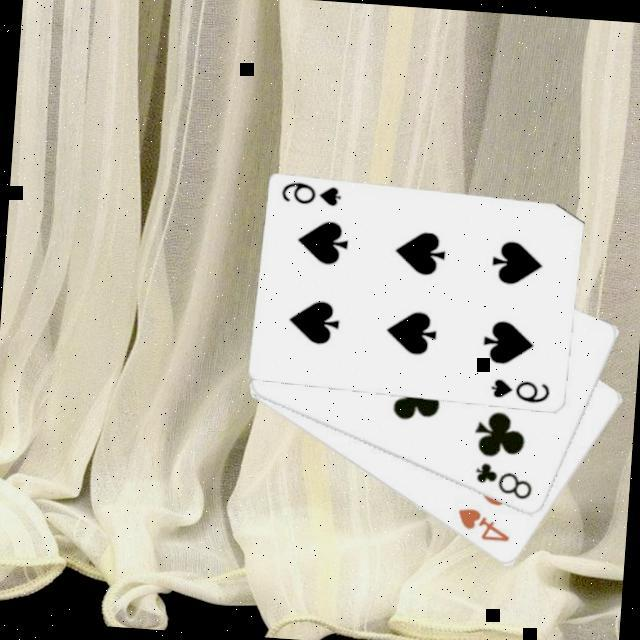4H: (453, 502, 516, 544)
6S: (487, 373, 555, 406), (279, 178, 346, 208)
8C: (471, 457, 538, 502)
